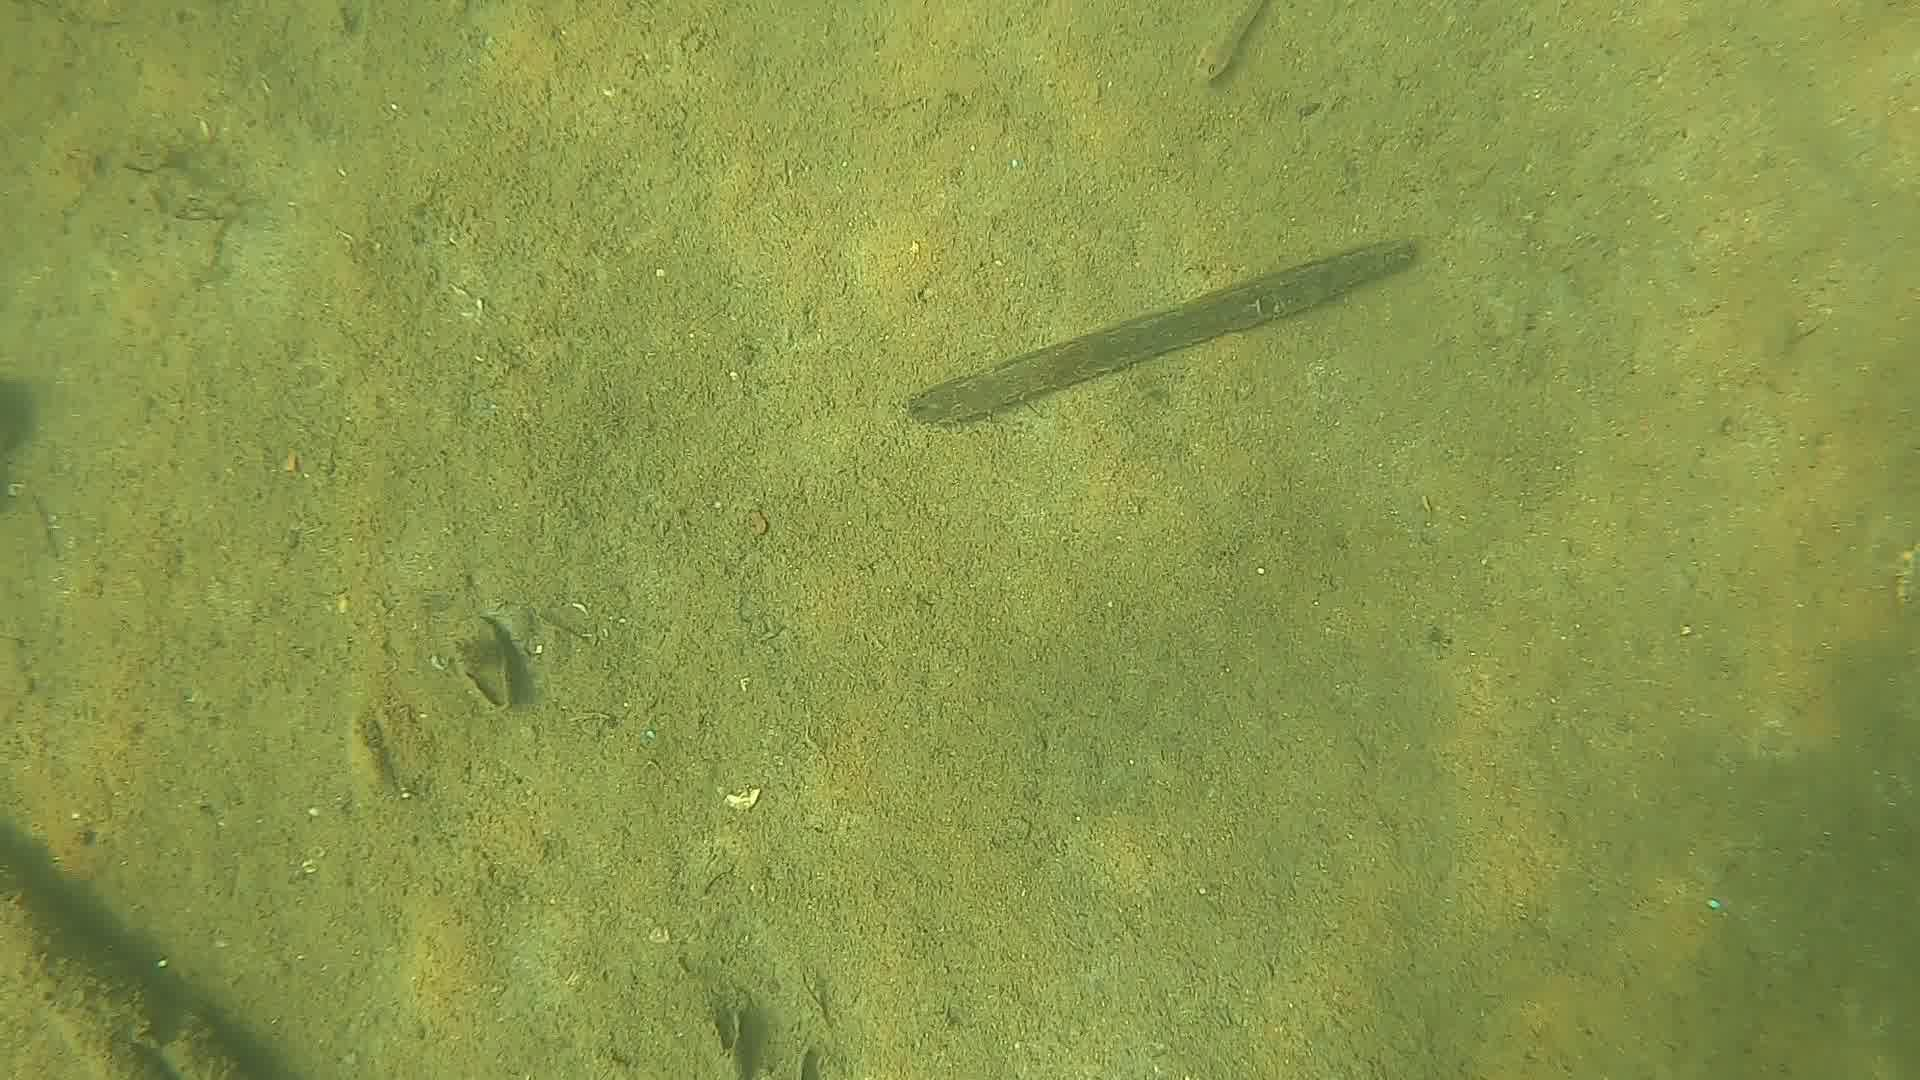wood: (905, 237, 1418, 423)
